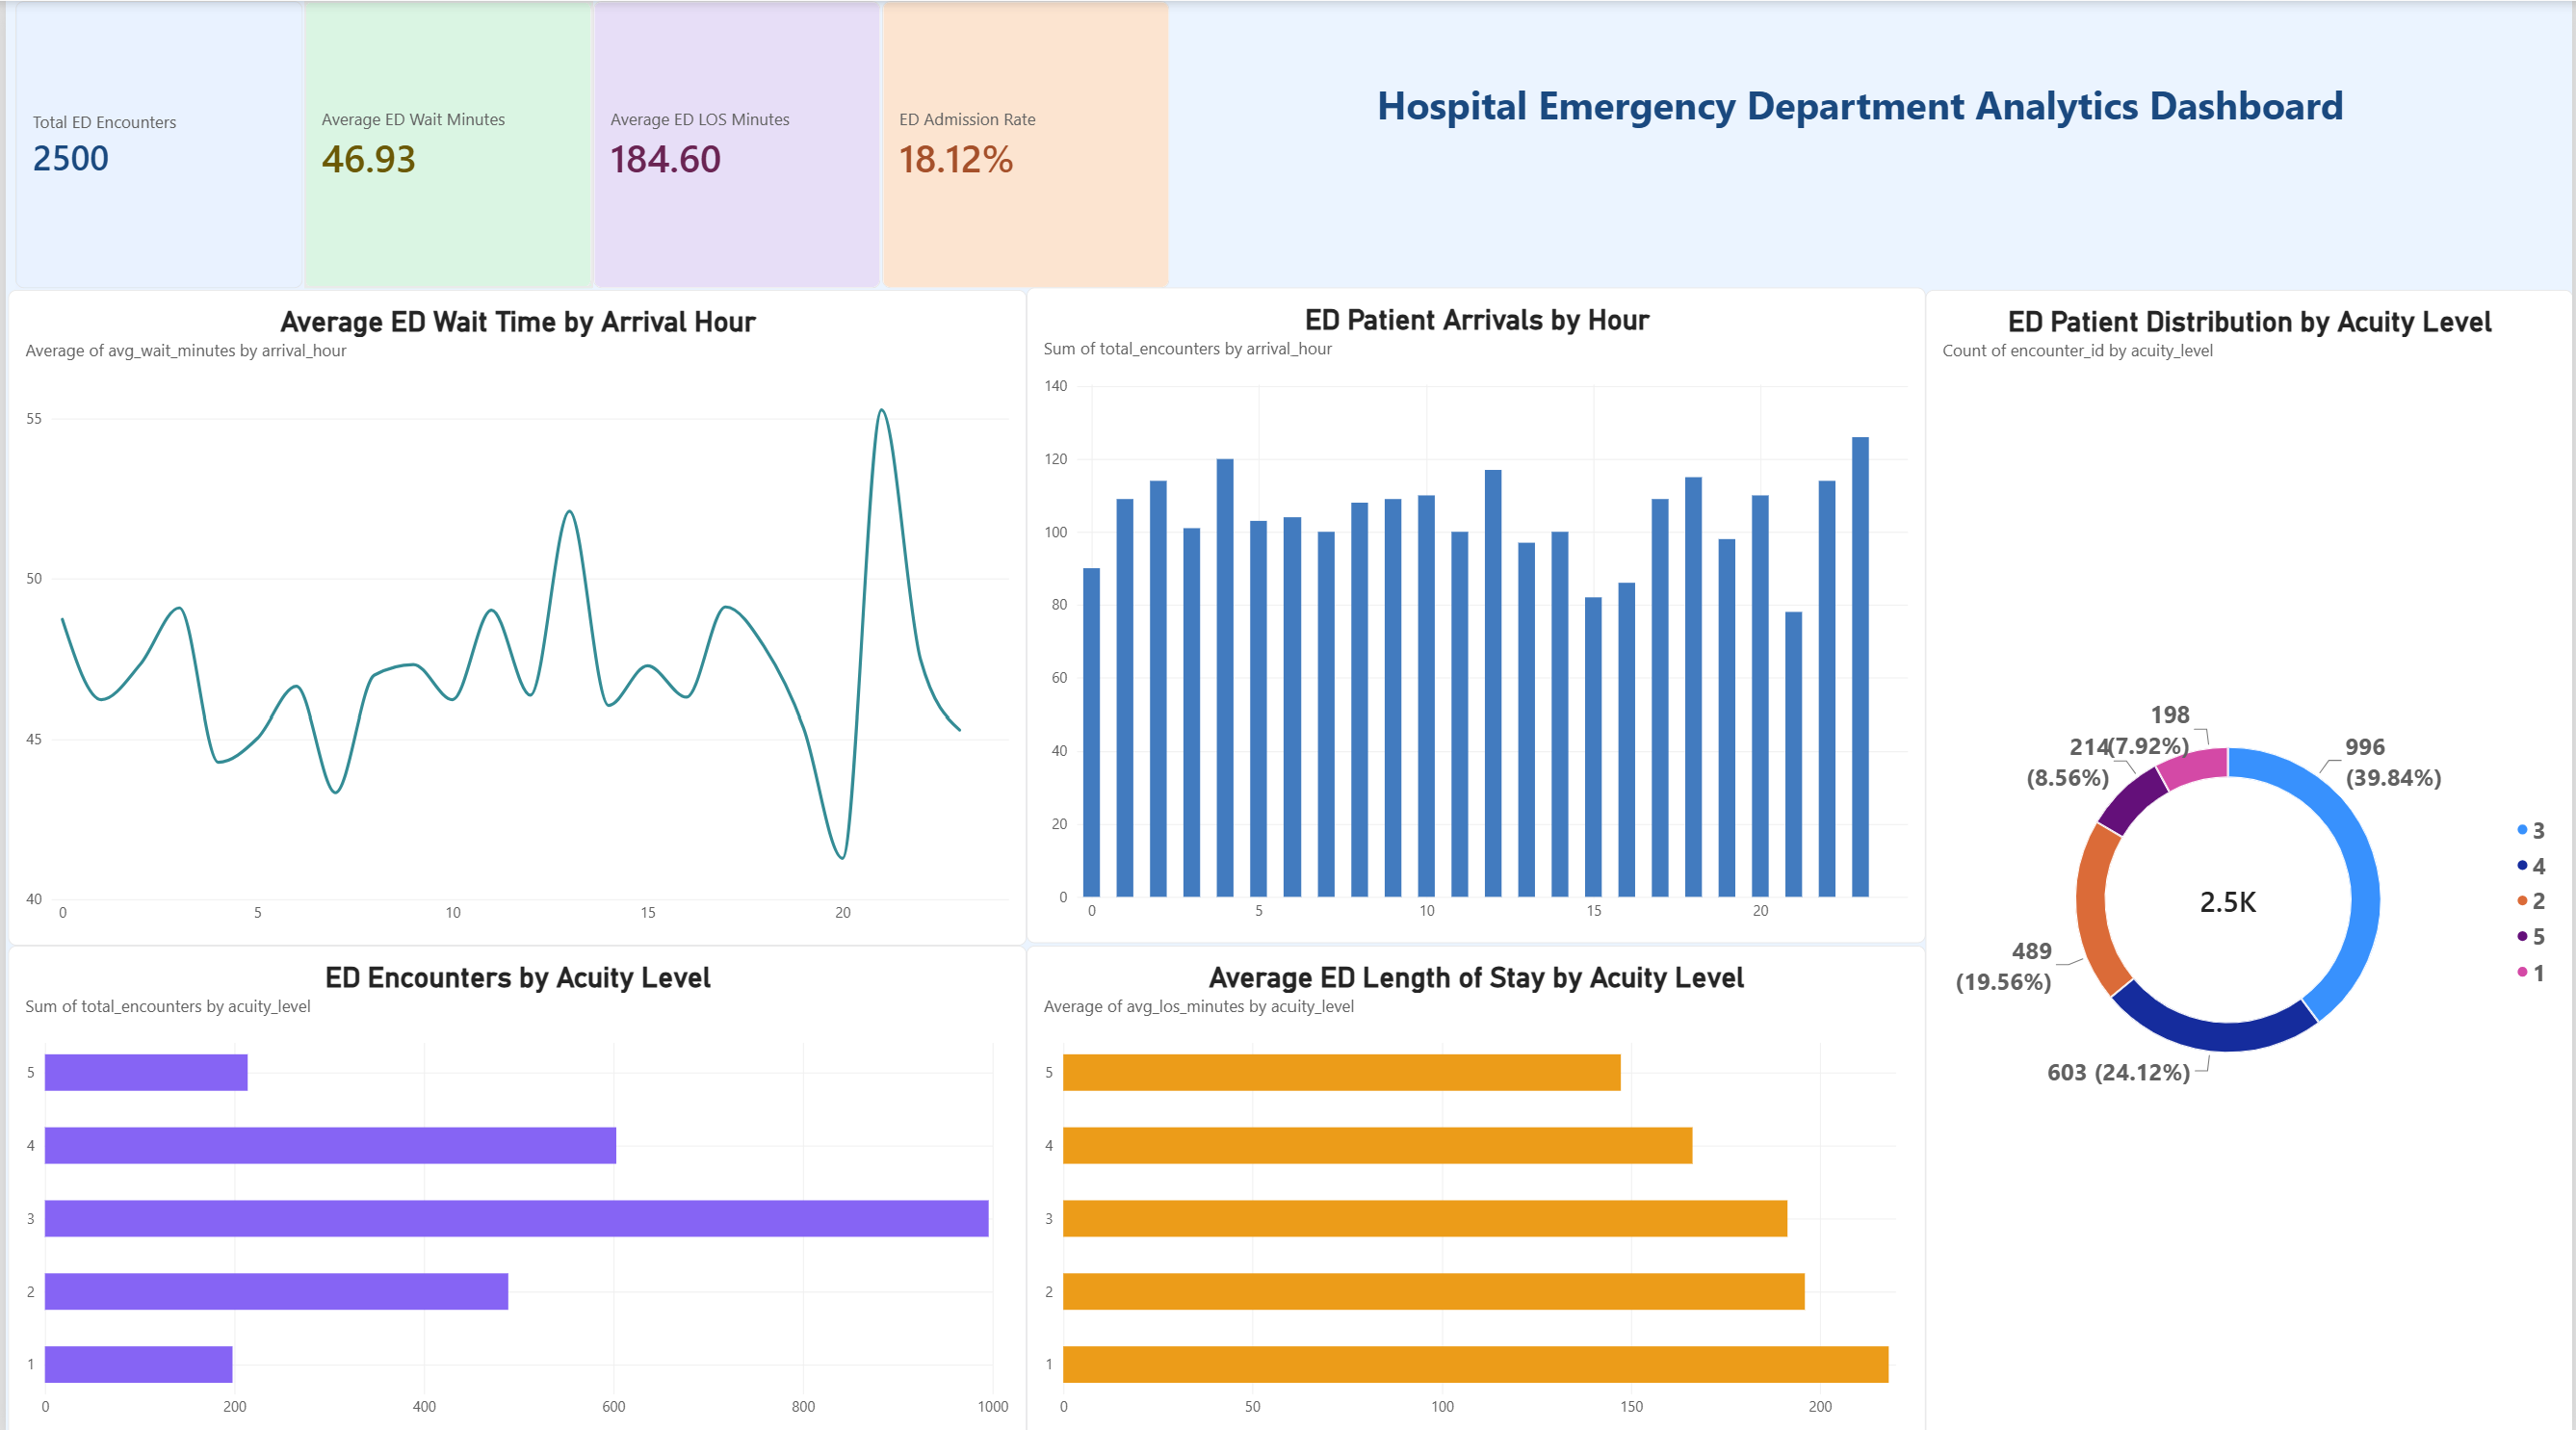

This screenshot's page, from the dashboard's own definition file:
{"tool":"powerbi","page":{"name":"Page 1","canvas":[2500,1400],"ordinal":0},"visuals":[{"type":"cardVisual","fields":{"Data":["ED_Encounters.Total ED Encounters"]},"box":[10,0,280,280],"z":0},{"type":"cardVisual","fields":{"Data":["ED_Acuity_Performance.Average ED Wait Minutes"]},"box":[291.4,0,280,280],"z":1000},{"type":"cardVisual","fields":{"Data":["ED_Acuity_Performance.Average ED LOS Minutes"]},"box":[571.9,0,280,280],"z":2000},{"type":"cardVisual","fields":{"Data":["ED_Acuity_Performance.ED Admission Rate"]},"box":[853.9,0,280,280],"z":3000},{"type":"lineChart","title":"Average ED Wait Time by Arrival Hour","fields":{"Category":["ED_Hourly_Performance.arrival_hour"],"Y":["Avg(ED_Hourly_Performance.avg_wait_minutes)"]},"box":[2.3,281.5,992.3,638.1],"z":4000},{"type":"clusteredColumnChart","title":"ED Patient Arrivals by Hour","fields":{"Category":["ED_Hourly_Performance.arrival_hour"],"Y":["Sum(ED_Hourly_Performance.total_encounters)"]},"box":[994.6,279.2,875,638.1],"z":4001},{"type":"clusteredBarChart","title":"ED Encounters by Acuity Level","fields":{"Category":["ED_Acuity_Performance.acuity_level"],"Y":["Sum(ED_Acuity_Performance.total_encounters)"]},"box":[2.3,919.6,992.3,480.9],"z":4002},{"type":"clusteredBarChart","title":"Average ED Length of Stay by Acuity Level","fields":{"Category":["ED_Acuity_Performance.acuity_level"],"Y":["Avg(ED_Acuity_Performance.avg_los_minutes)"]},"box":[994.6,919.6,875,480.9],"z":4003},{"type":"textbox","box":[1111.9,75.1,1388.7,204.1],"z":4004},{"type":"donutChart","title":"ED Patient Distribution by Acuity Level","fields":{"Category":["ED_Acuity_Performance.acuity_level"],"Y":["Count(ED_Encounters.encounter_id)"]},"box":[1869.6,281.5,631,1119],"z":4005}]}

Visuals, with their boxes in screenshot pixels (x1, y1, x2, y2), scaled from the page's 2500x1400 canvas onto the 2576x1430 screenshot:
cardVisual - ED_Encounters.Total ED Encounters: [11, 0, 299, 286]
cardVisual - ED_Acuity_Performance.Average ED Wait Minutes: [300, 0, 588, 286]
cardVisual - ED_Acuity_Performance.Average ED LOS Minutes: [589, 0, 878, 286]
cardVisual - ED_Acuity_Performance.ED Admission Rate: [880, 0, 1168, 286]
"Average ED Wait Time by Arrival Hour" lineChart: [2, 288, 1025, 939]
"ED Patient Arrivals by Hour" clusteredColumnChart: [1025, 285, 1926, 937]
"ED Encounters by Acuity Level" clusteredBarChart: [2, 939, 1025, 1429]
"Average ED Length of Stay by Acuity Level" clusteredBarChart: [1025, 939, 1926, 1429]
textbox: [1146, 77, 2575, 285]
"ED Patient Distribution by Acuity Level" donutChart: [1926, 288, 2575, 1429]
